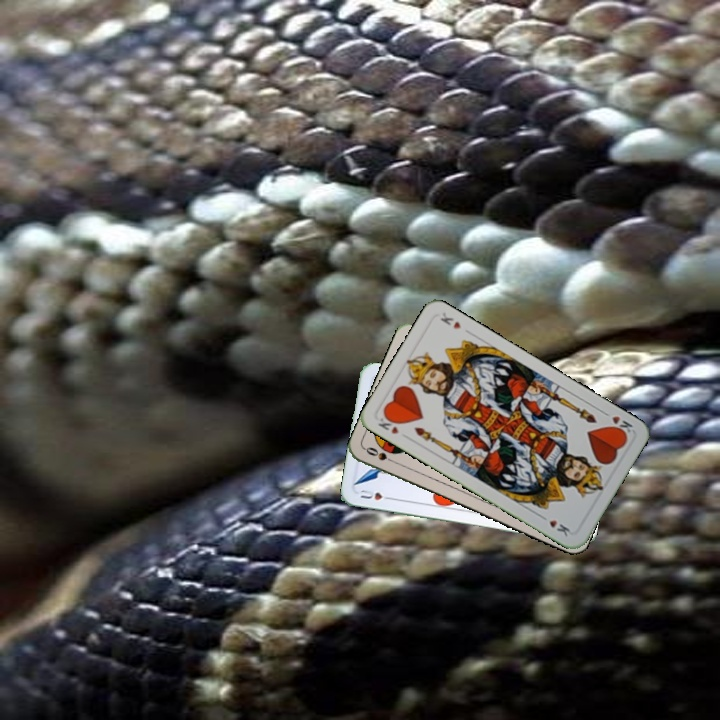HK: (606, 412, 635, 439), (374, 411, 402, 437)
HU: (356, 485, 395, 503)
SO: (362, 443, 400, 467)
